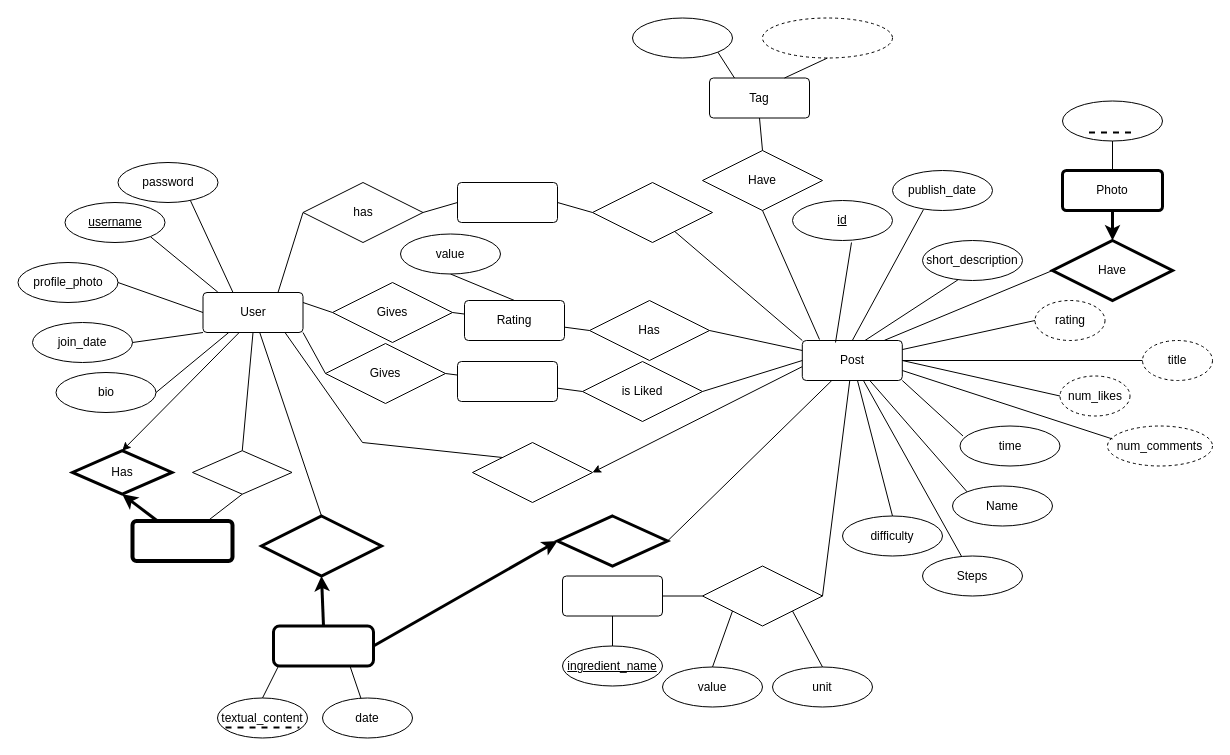
This 1230x755 diagram has some shape labels left out. The shapes that lost their labels are listed below. From the top down, each one's box as (x1, y1, x2, y2) in pixels, then its label:
(632, 17, 732, 58): tag_name
(762, 17, 892, 58): num_uses
(1062, 100, 1162, 141): url
(456, 182, 558, 222): Bookmark
(592, 182, 712, 242): is
(456, 360, 558, 402): Like
(192, 450, 292, 494): Is on
(472, 442, 592, 502): authors
(130, 518, 234, 562): Follow List
(260, 514, 382, 577): writes
(556, 514, 668, 567): belongs
(562, 575, 662, 616): Ingredients
(702, 565, 822, 626): Contains
(272, 624, 374, 667): Comment
